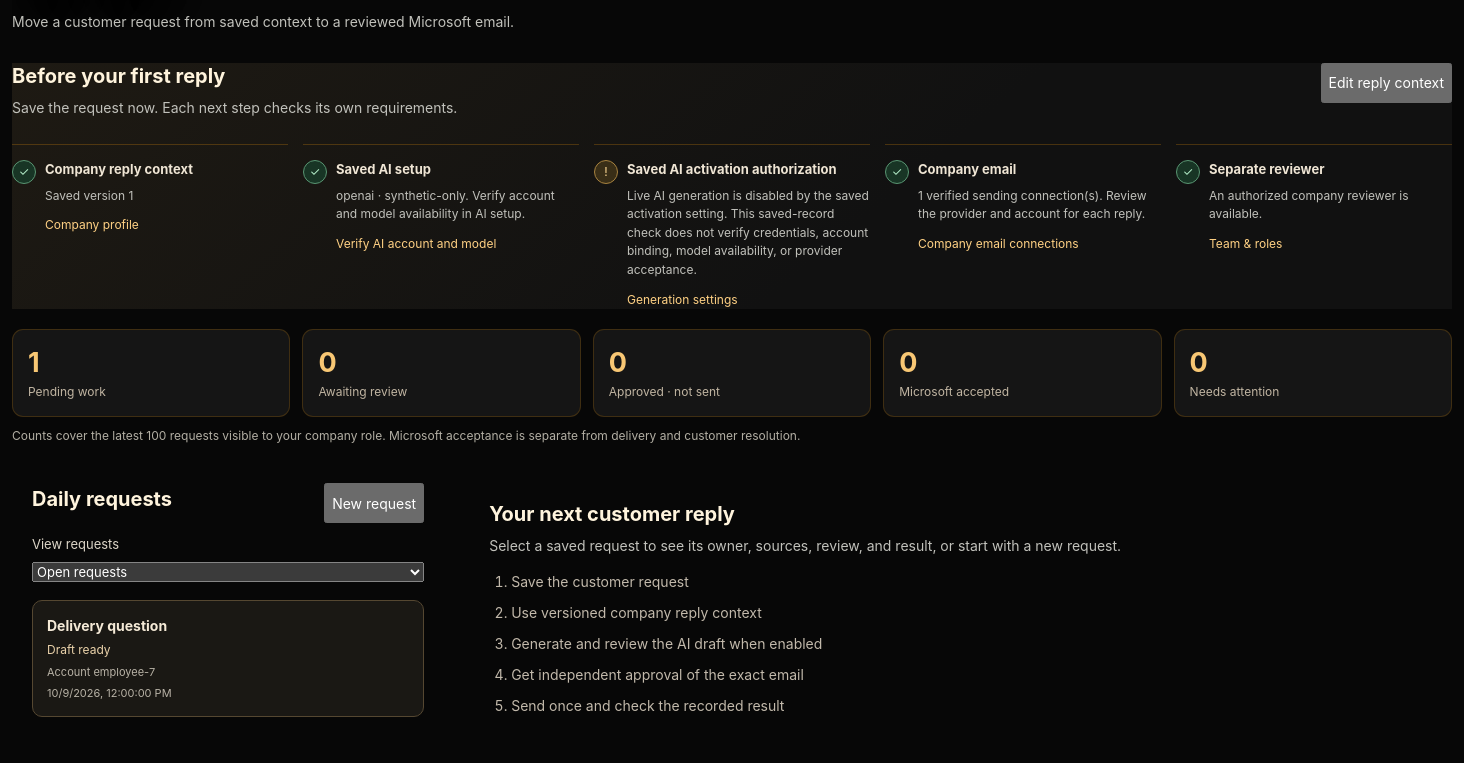
pinned AI requests and exact reviewed email › shows exact source, recipient, subject and body; draft acceptance does not queue or send
(page scrolled)
Step 1. Click the button "Delivery question" → (107, 625), box [32, 600, 424, 717]
(page scrolled)
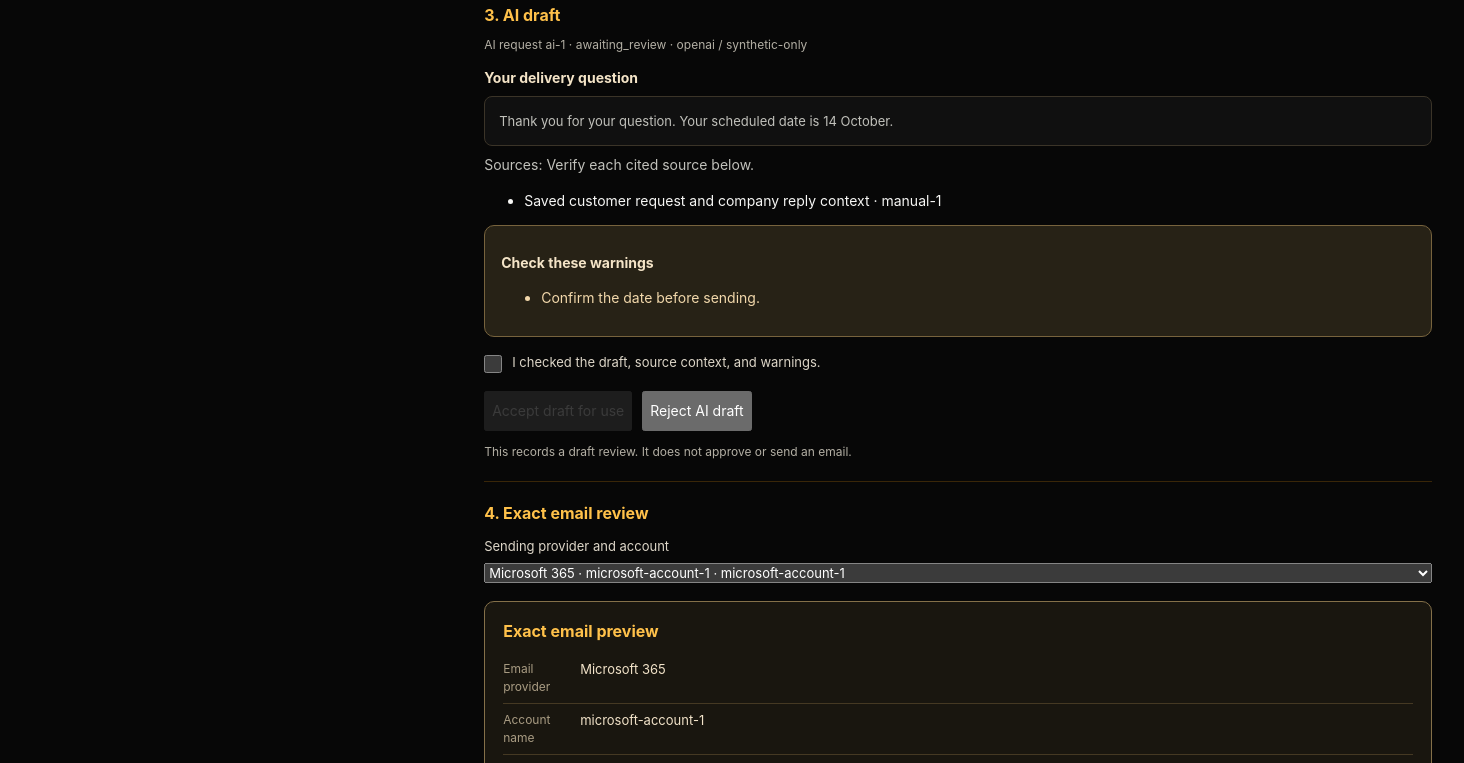
Step 2. Click the checkbox labelled "I checked the draft, source context, and warnings." → (493, 364), box [484, 355, 502, 373]
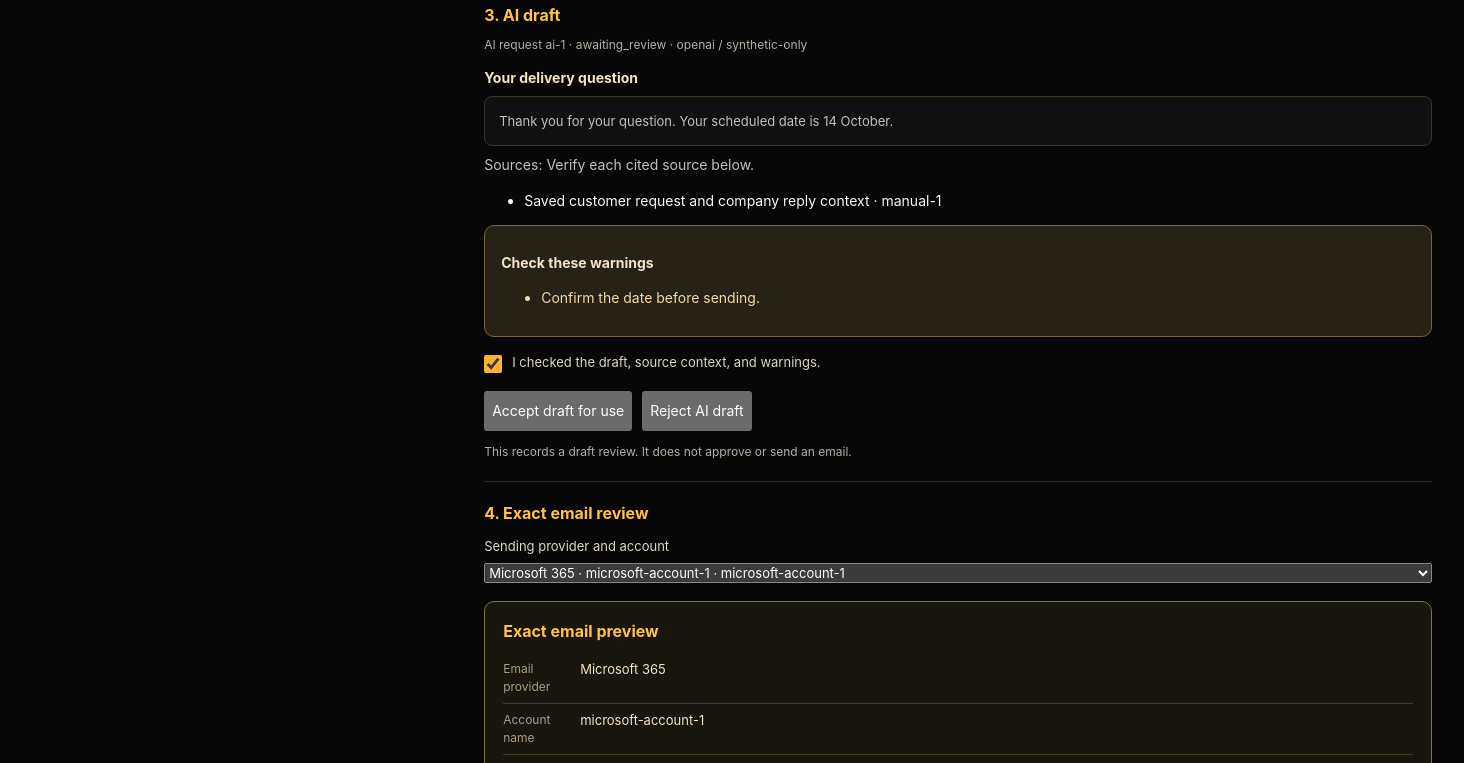
Step 3. Click the button "Accept draft for use" → (558, 411), box [484, 391, 632, 431]
(page scrolled)
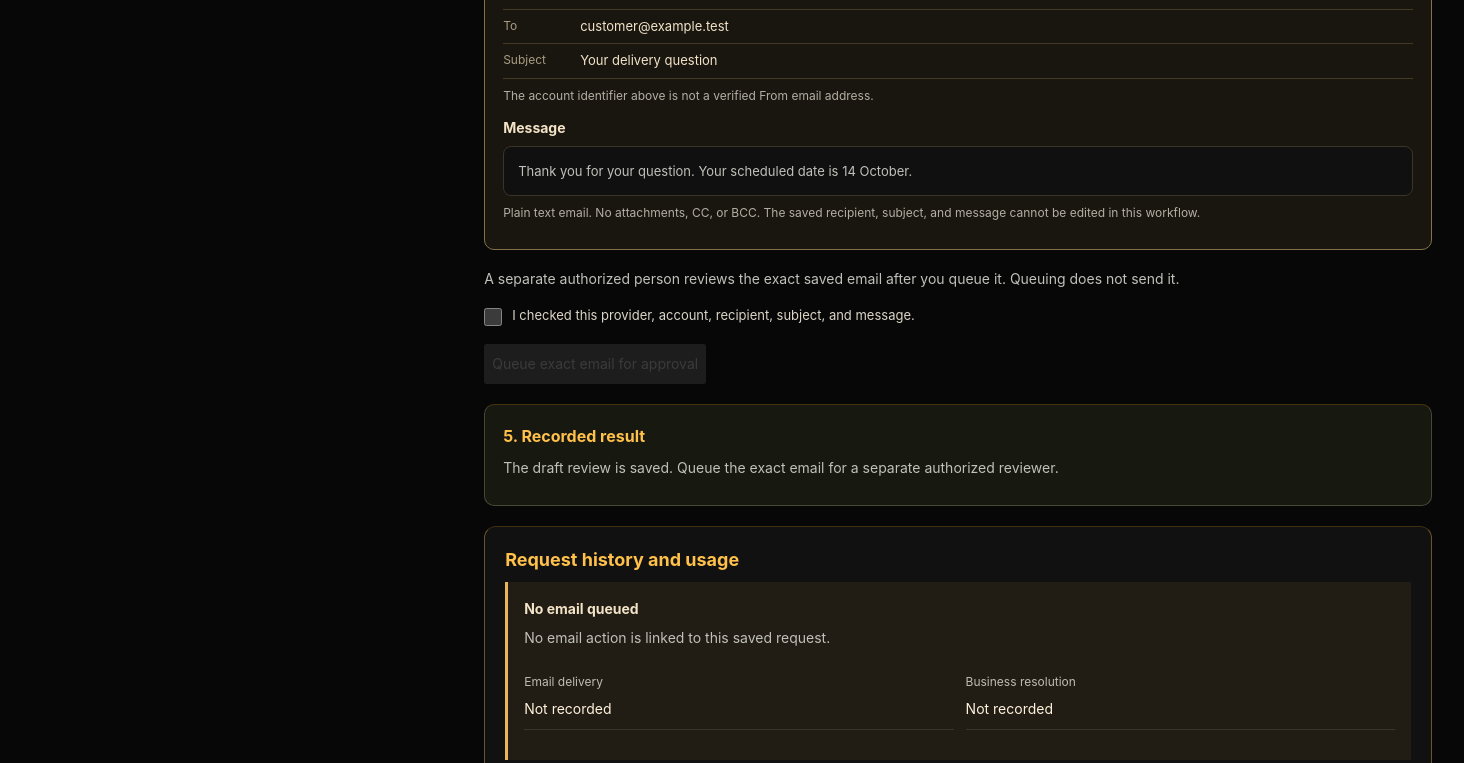
Expected: the button "Queue exact email for approval" is disabled, [484, 344, 706, 384]
